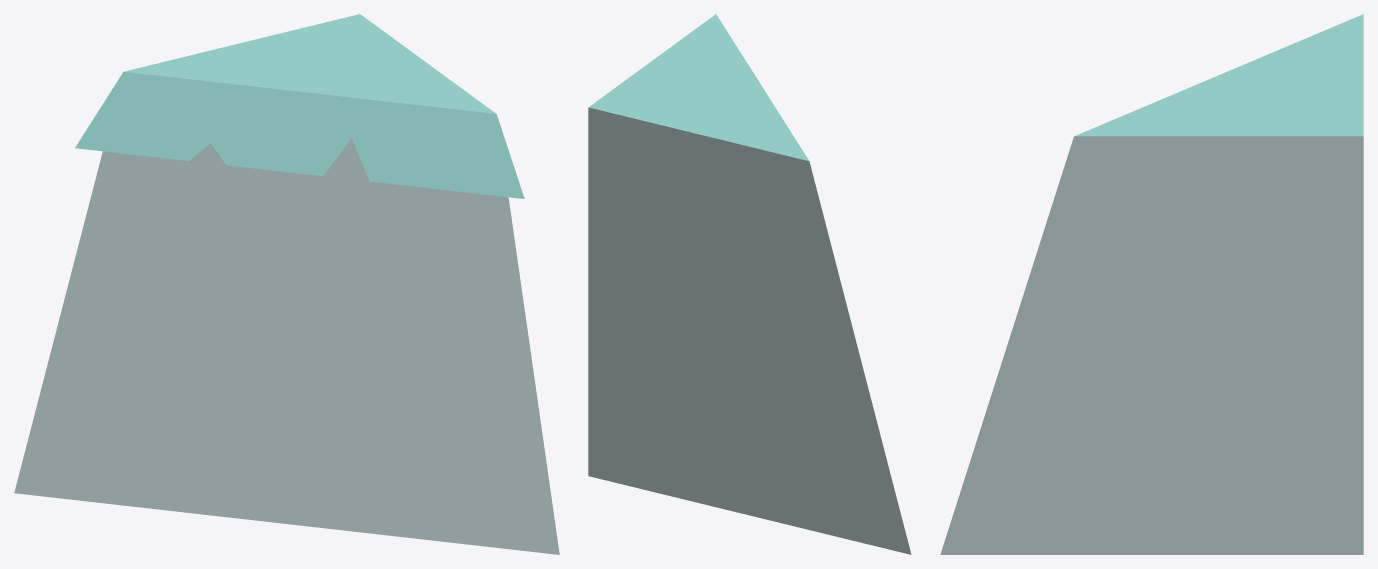
The model's file is cliffGrey_halfCorner.glb.
3 renders of one model, left to right at view 1: azimuth 30°, elevation 25°; view 2: azimuth 150°, elevation 25°; view 3: azimuth 270°, elevation 25°, orthographic. The views are drawn at different scales.
Parts seen in each view (by area): view 1: cliffGrey_halfCorner; view 2: cliffGrey_halfCorner; view 3: cliffGrey_halfCorner.
Part boxes in pixels (box(x1,y1,x2,y2)): cliffGrey_halfCorner: box(14, 14, 559, 554); cliffGrey_halfCorner: box(588, 14, 911, 554); cliffGrey_halfCorner: box(940, 14, 1363, 554).
Size of the model in its own units: 0.4584 by 0.5 by 0.4584.
